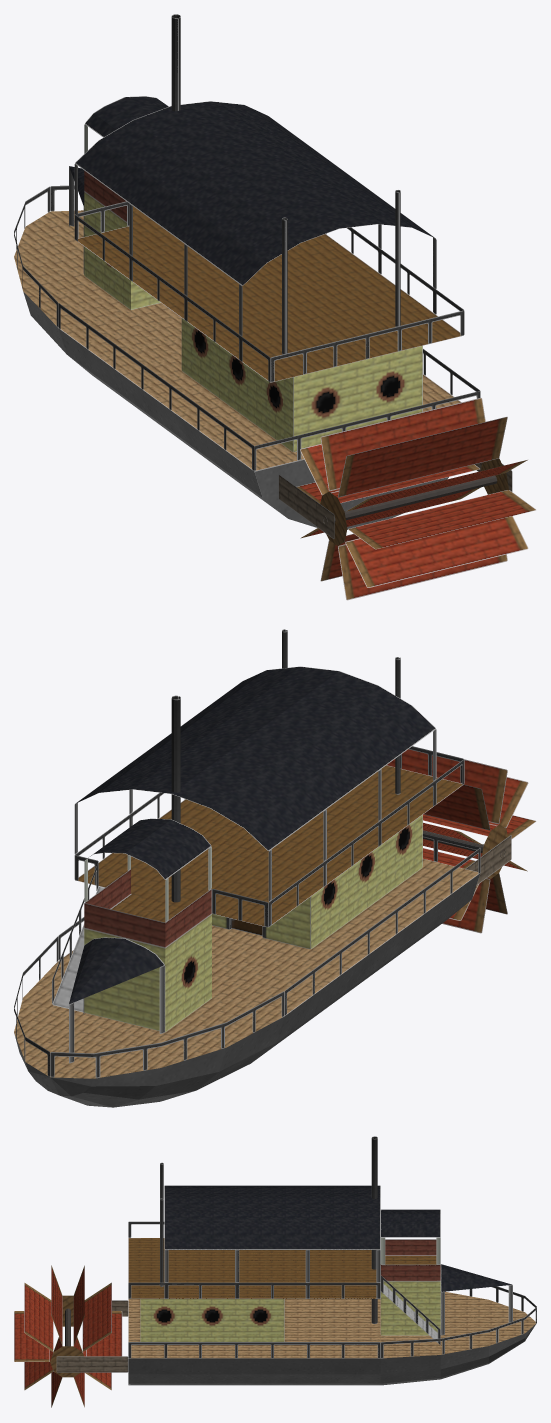
Rendered from boat.obj.
The picture shows the model from 3 angles, top to bottom: view 1: azimuth 30°, elevation 25°; view 2: azimuth 150°, elevation 25°; view 3: azimuth 270°, elevation 25°; orthographic projection. The views are drawn at different scales.
Parts seen in each view (by area): view 1: Cube_Cube.001; view 2: Cube_Cube.001; view 3: Cube_Cube.001.
Boxes of the visible parts, bbox=[...] form: Cube_Cube.001: bbox=[14, 14, 535, 600]; Cube_Cube.001: bbox=[14, 629, 536, 1107]; Cube_Cube.001: bbox=[14, 1136, 536, 1407].
Bounding box in the file's own units: 7 × 11.26 × 21.75.
